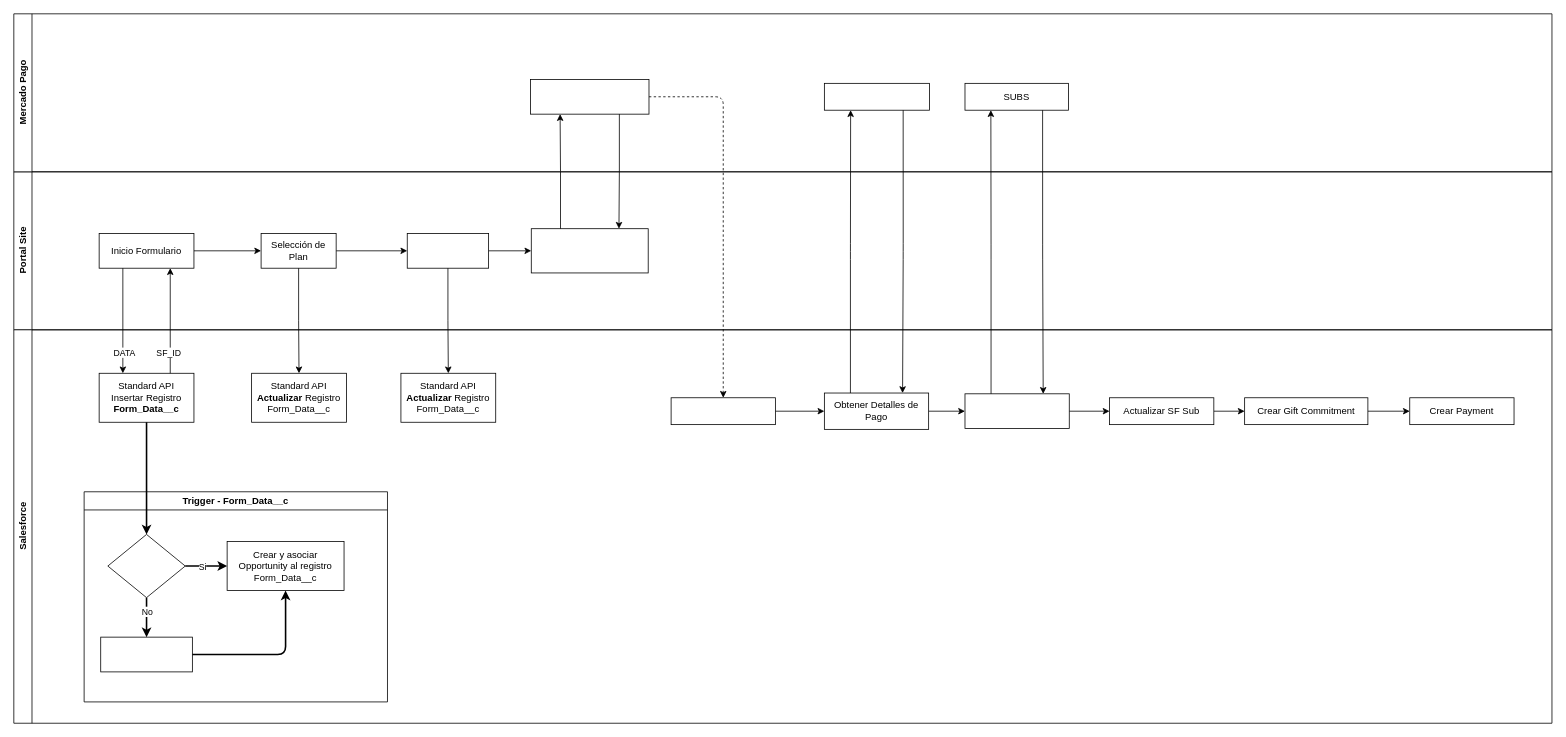
Image size: 1566x737. Some labels were removed from this diagram. The centre of each missing label's shape, as x and y in pixels:
"Creación de Suscripción / Preferencia" belongs at point 589,96.
"Crear Account Person" belongs at point 146,654.
"Ingresa datos de Pago" belongs at point 447,250.
"Obtener Detalles de Sub" belongs at point 1016,411.
"Pago Recurrente/Unica (usando SF_ID)" belongs at point 589,250.
"PAGOS" belongs at point 876,96.
"Recepción de Pago" belongs at point 722,411.
"Usuario Existe? (Email)" belongs at point 146,566.
